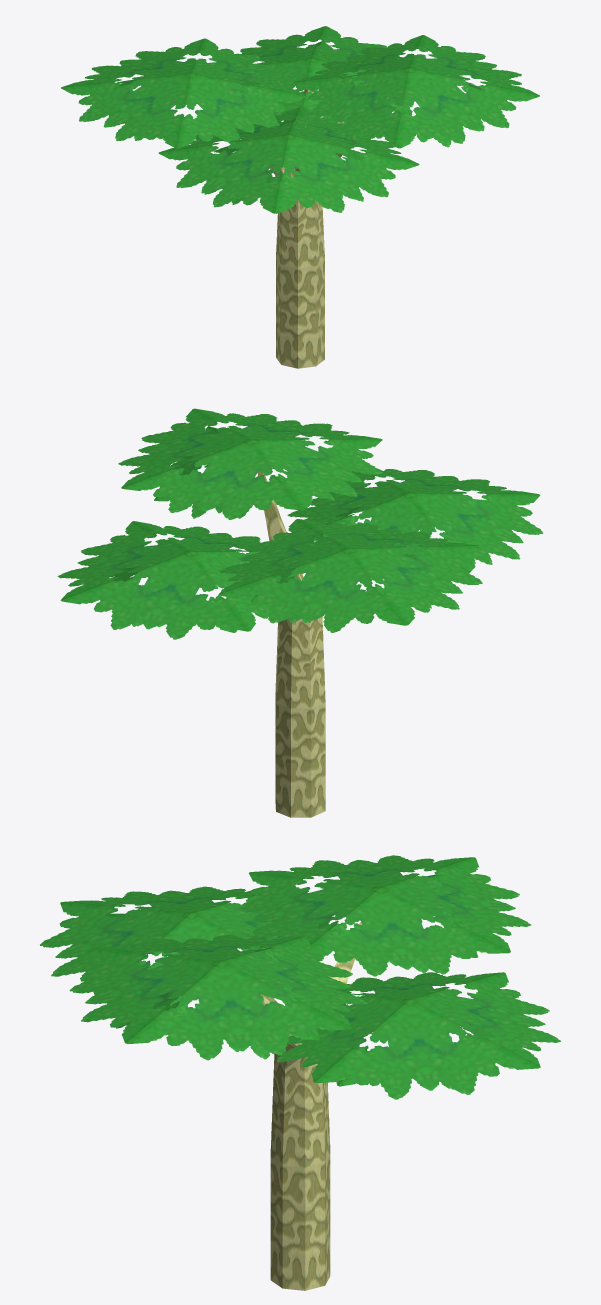
Rendered from tree.obj.
3 views of the same model, one above another, from view 1: azimuth 30°, elevation 25°; view 2: azimuth 150°, elevation 25°; view 3: azimuth 270°, elevation 25° (orthographic). The views are drawn at different scales.
Parts seen in each view (by area): view 1: n0b1, n1b0; view 2: n0b1, n1b0; view 3: n0b1, n1b0.
Part boxes in pixels (x1,y1,x2,y2): n0b1: (61,26,539,213); n1b0: (270,89,349,368); n0b1: (57,408,543,639); n1b0: (257,471,325,817); n0b1: (40,855,560,1099); n1b0: (261,922,361,1290).
Size of the model in its own units: 1.32 by 0.9213 by 1.32.
Materials: 2 (2 with a texture image).
